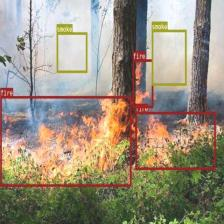fire: (0, 96, 131, 186), (136, 112, 216, 169), (132, 59, 153, 107)
smoke: (152, 29, 186, 85), (56, 32, 87, 73)
